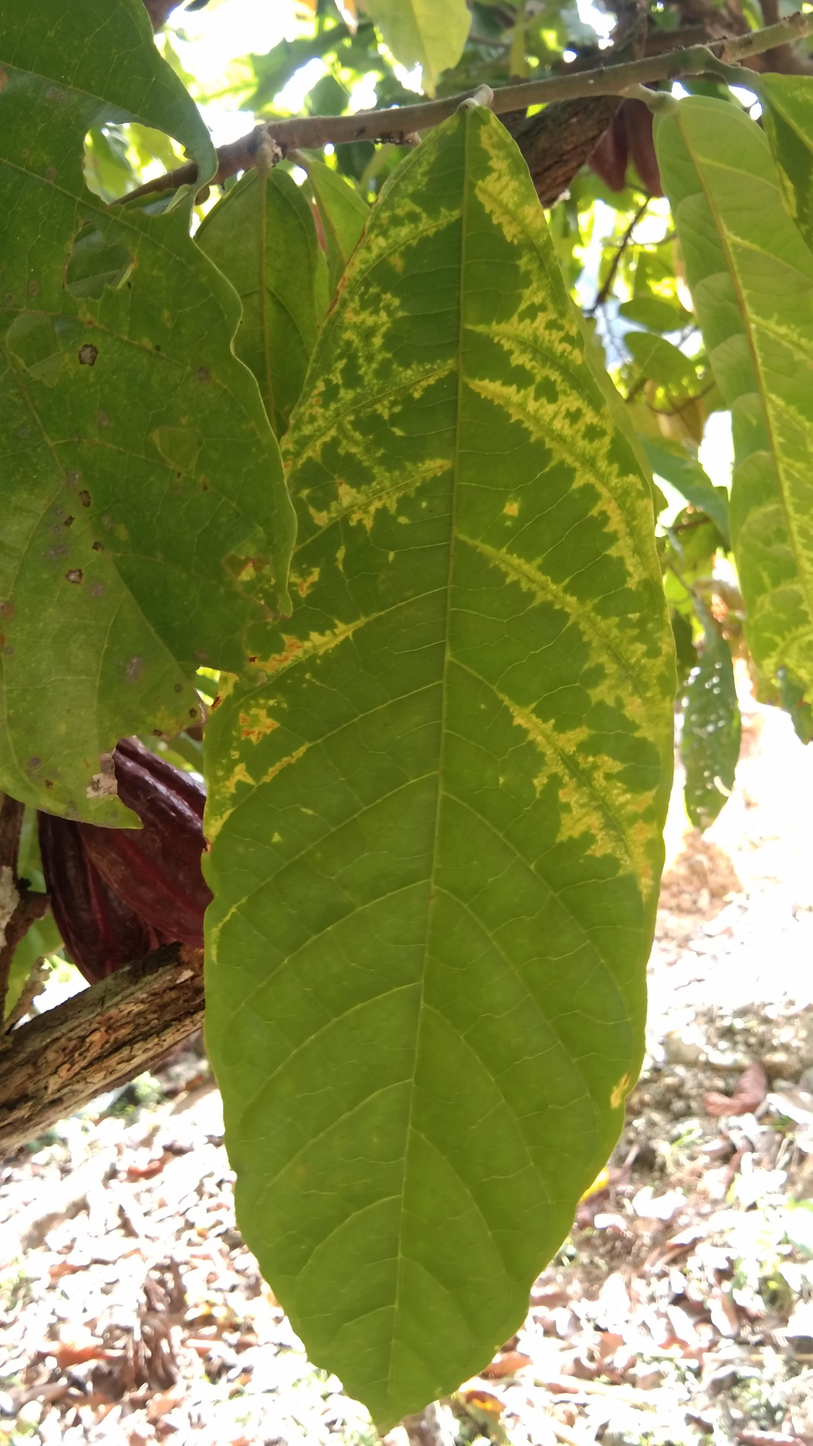deficiencia_potasio: (189, 45, 682, 1446)
